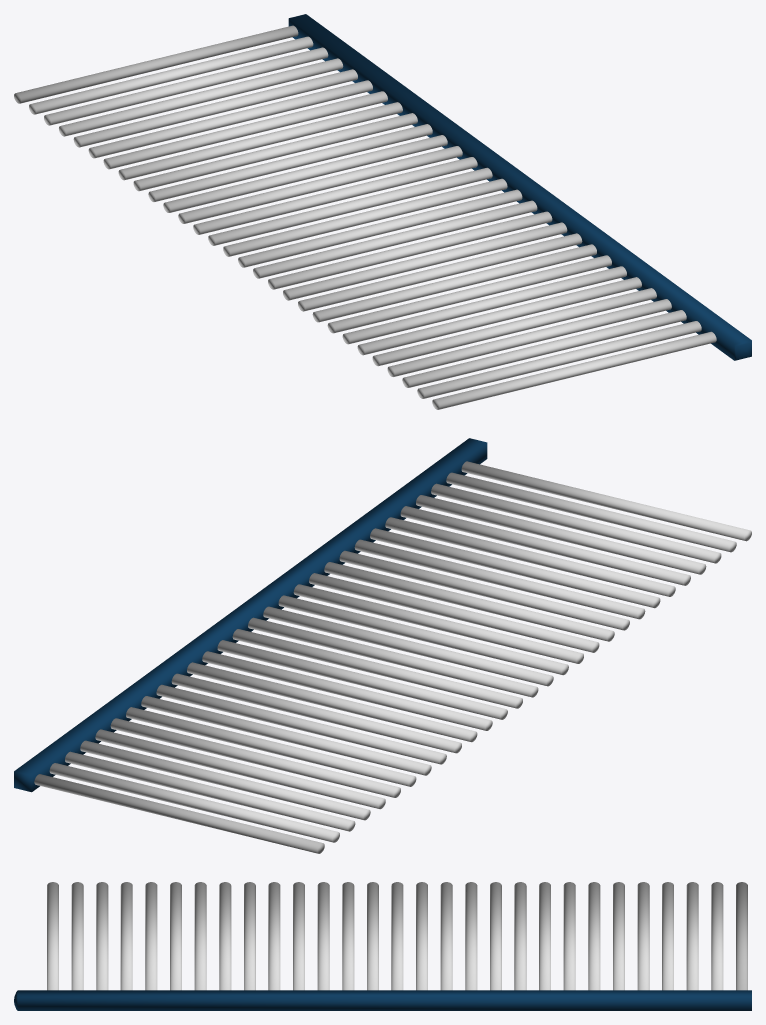
File: cinta.glb
3 views of the same model, one above another, from view 1: azimuth 30°, elevation 25°; view 2: azimuth 150°, elevation 25°; view 3: azimuth 270°, elevation 25° (orthographic). The views are drawn at different scales.
Visible parts, largest first — view 1: Cinta; view 2: Cinta; view 3: Cinta.
Boxes of the visible parts, left/top/right/bottom form: Cinta: left=14, top=14, right=751, bottom=409; Cinta: left=14, top=438, right=751, bottom=853; Cinta: left=14, top=882, right=751, bottom=1010.
Size of the model in its own units: 1.9 by 0.1001 by 5.
